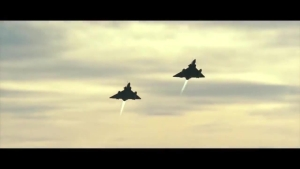flight: (172, 57, 205, 80), (109, 81, 141, 102)
